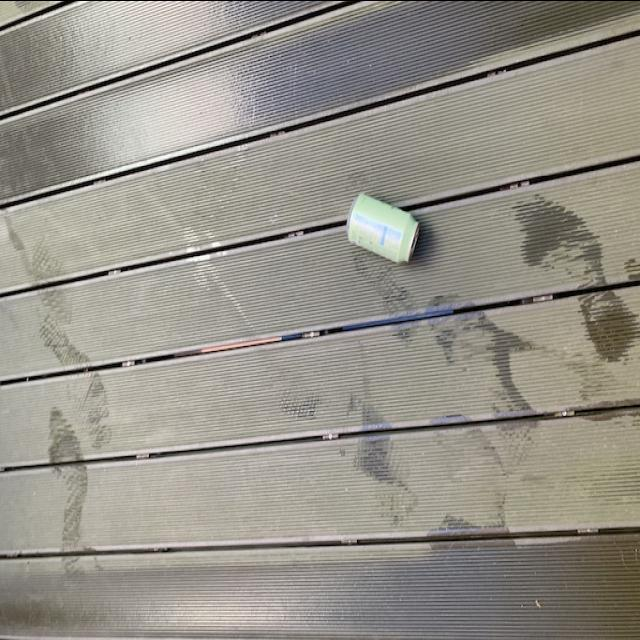Aluminum Can: (348, 188, 423, 264)
